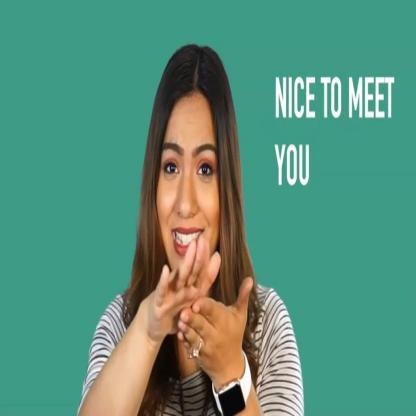NiceToMeetYou: (153, 230, 252, 392)
